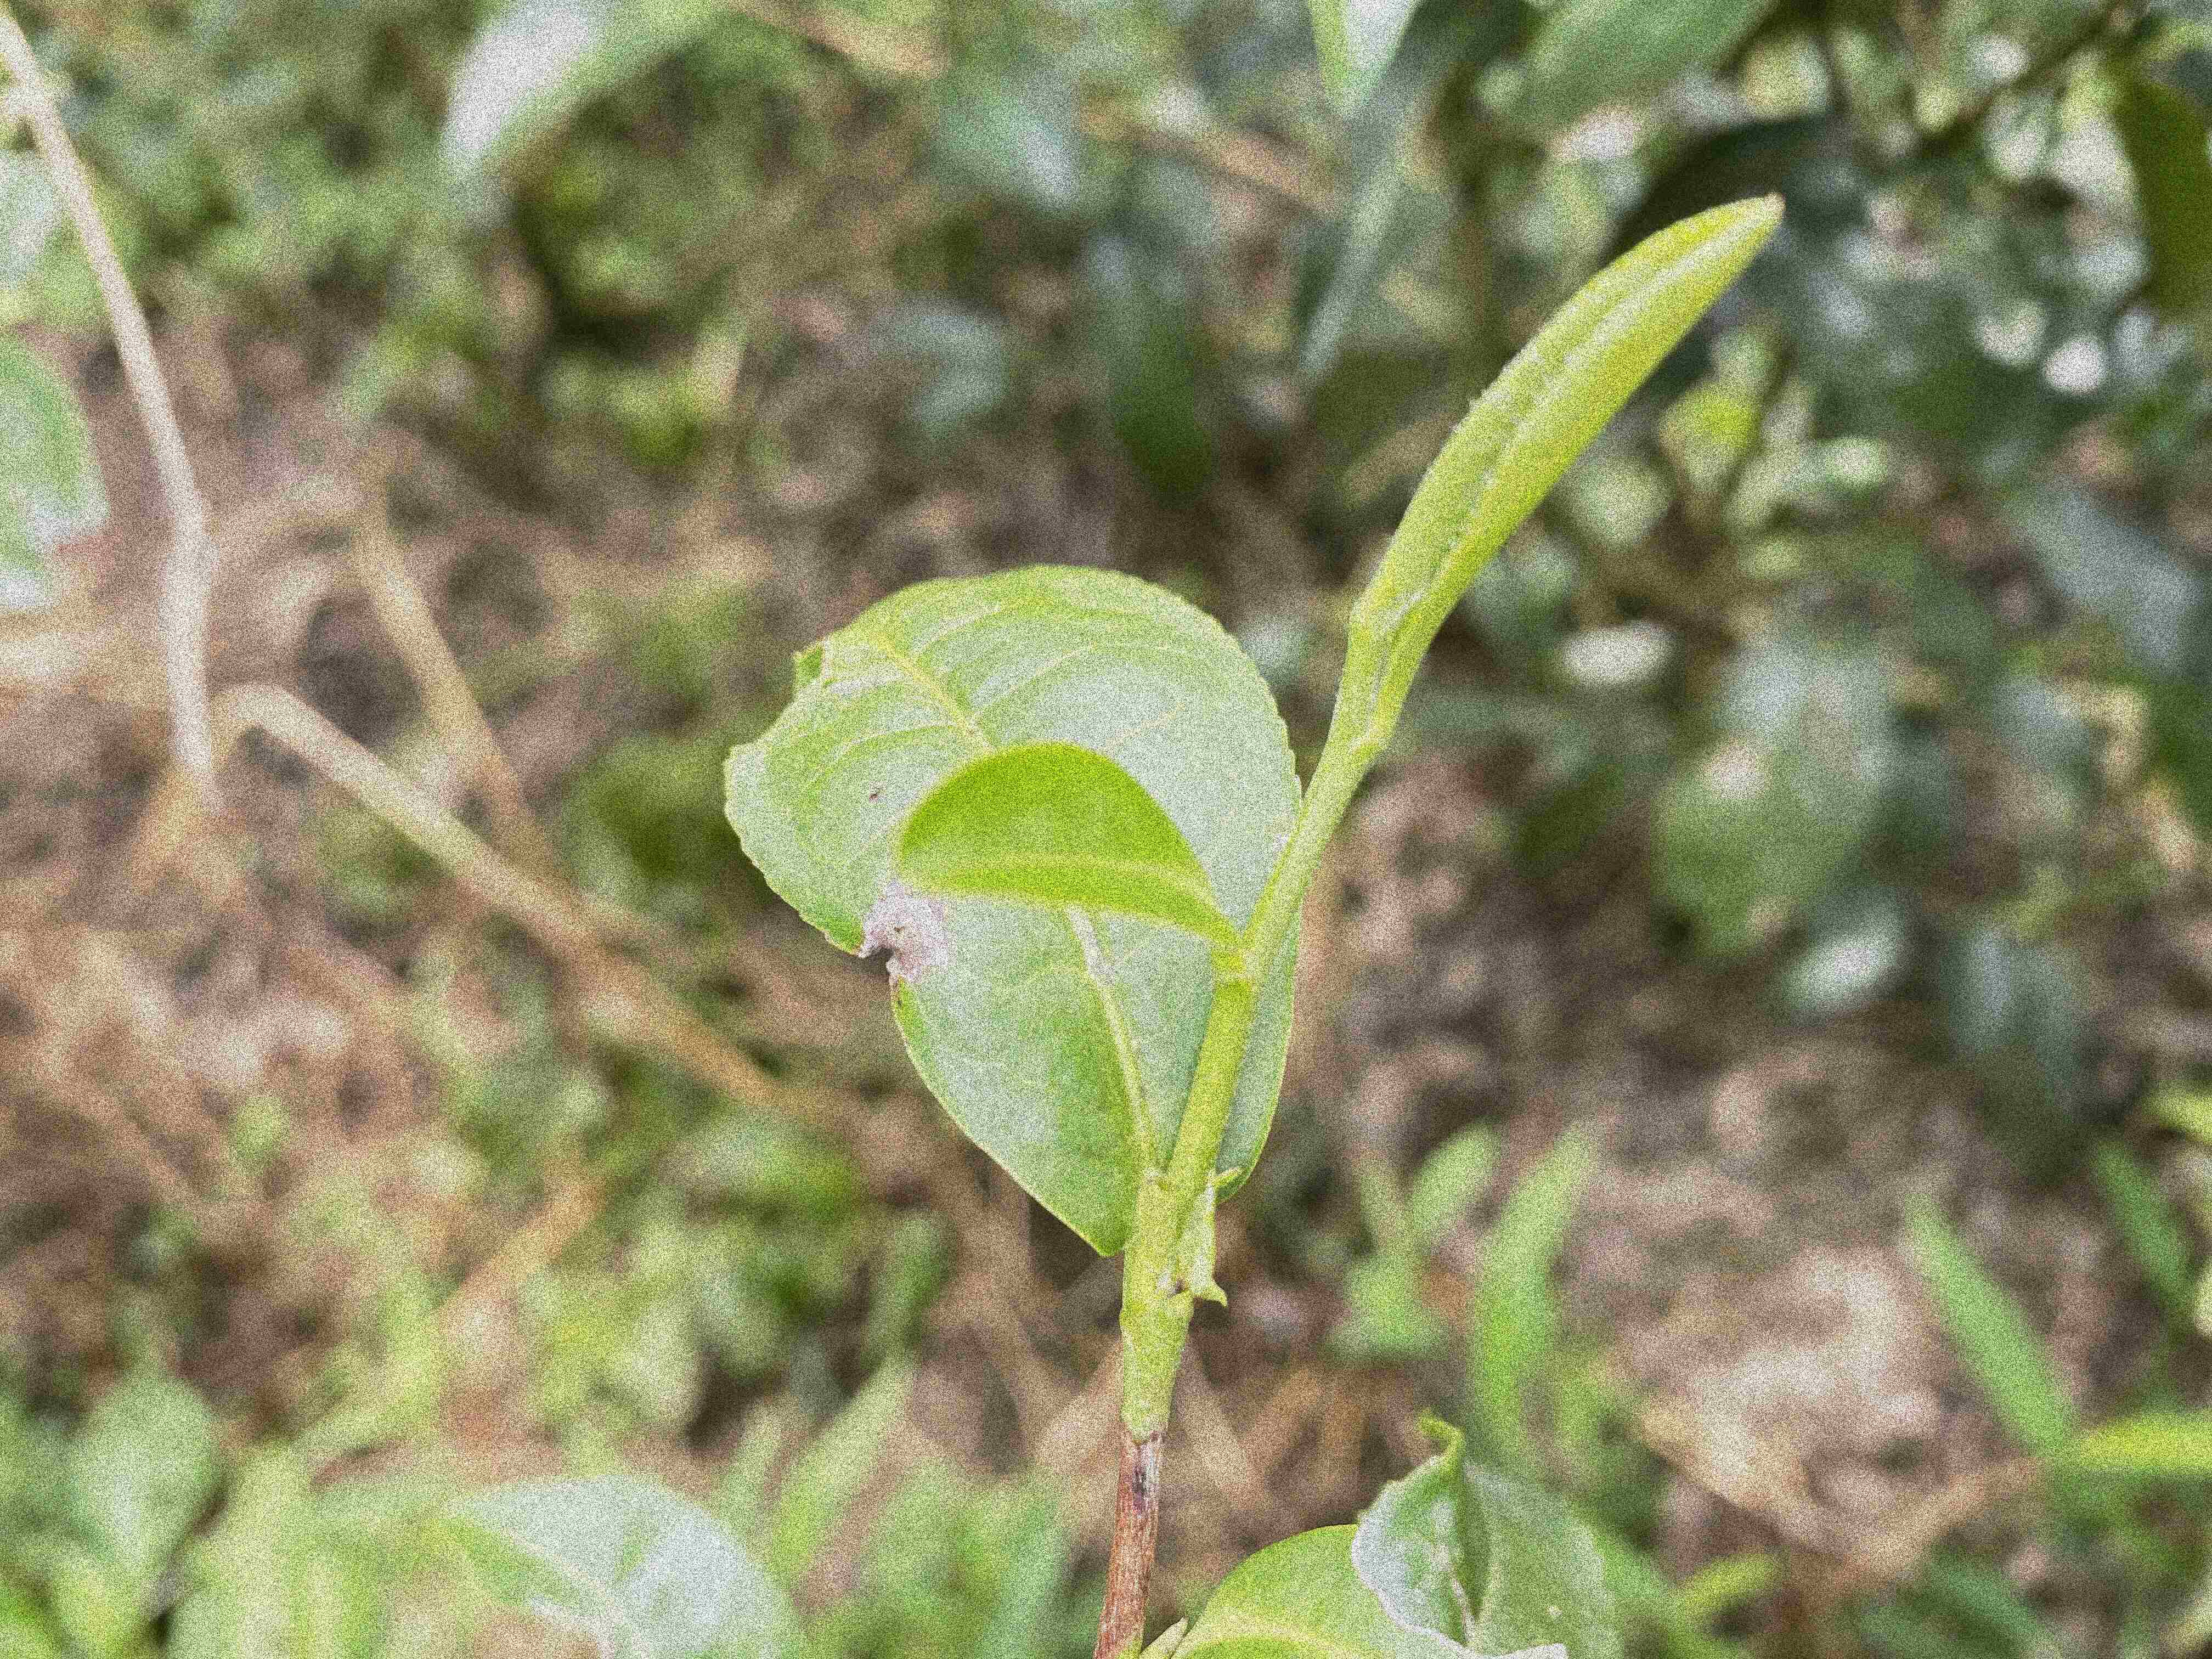healthy: (899, 742, 1245, 953)
tanju_high: (723, 559, 1305, 1256)
